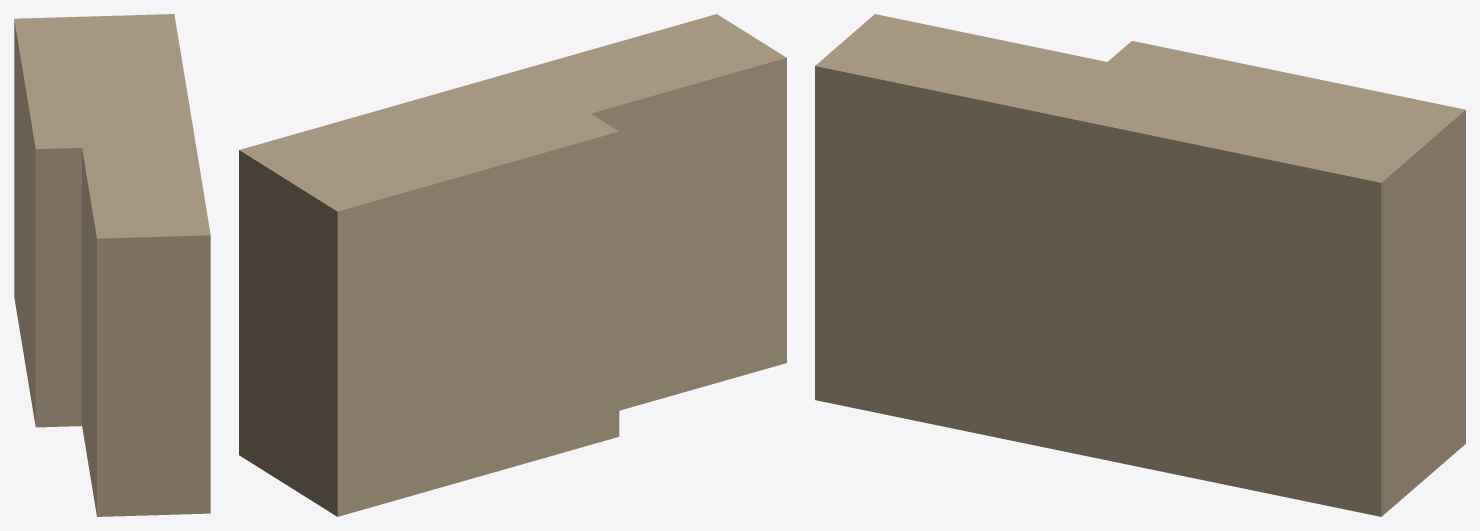
Rendered from bld_99520068.dae.
3 renders of one model, left to right at view 1: azimuth 30°, elevation 25°; view 2: azimuth 150°, elevation 25°; view 3: azimuth 270°, elevation 25°, orthographic. The views are drawn at different scales.
Visible parts, largest first — view 1: bld_99520068; view 2: bld_99520068; view 3: bld_99520068.
Boxes of the visible parts, <box> form: bld_99520068: <box>14,14,210,516</box>; bld_99520068: <box>239,14,786,516</box>; bld_99520068: <box>815,14,1465,516</box>.
Bounding box in the file's own units: 8.67 × 14.13 × 8.
